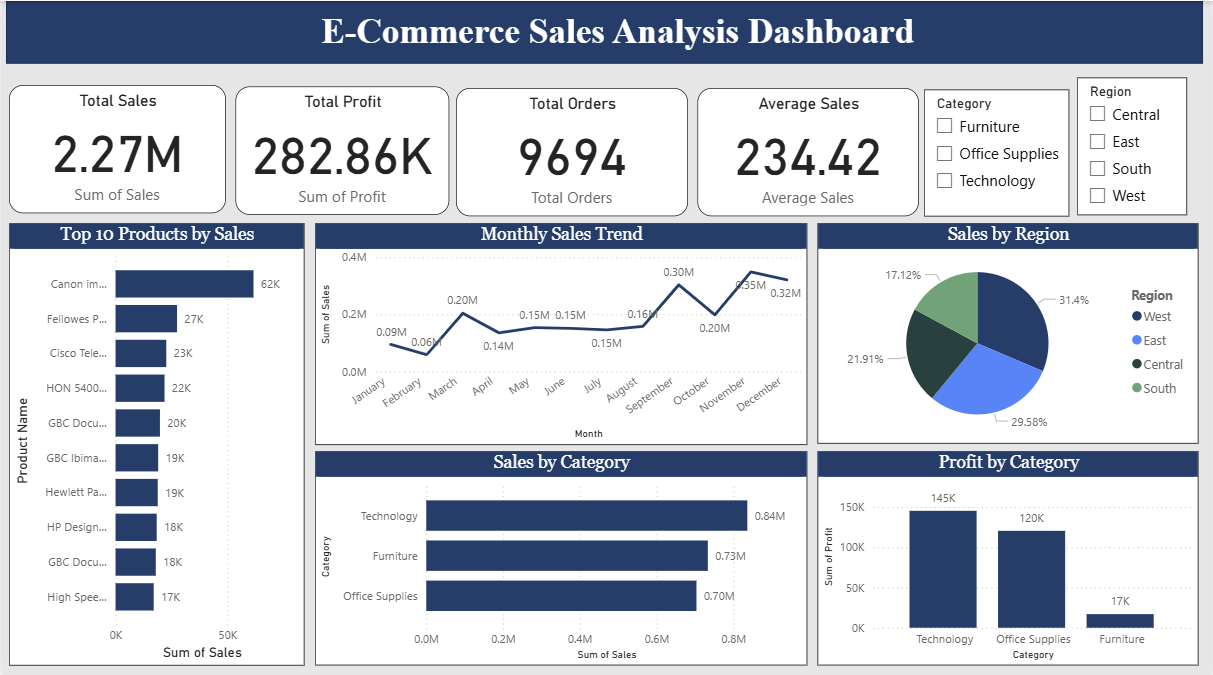

Layout of this report page (visuals, bound fields, positions):
{"tool":"powerbi","page":{"name":"Page 1","canvas":[1280,720],"ordinal":0},"visuals":[{"type":"card","title":"Total Sales","fields":{"Values":["Sum(ecommerce_sales superstore.Sales)"]},"box":[6.5,89.1,229.9,136],"z":0},{"type":"card","title":"Total Profit","fields":{"Values":["Sum(ecommerce_sales superstore.Profit)"]},"box":[246.1,90.7,226.7,136],"z":1000},{"type":"card","title":"Total Orders","fields":{"Values":["ecommerce_sales superstore.Total Orders"]},"box":[480.9,92.3,246.1,136],"z":2000},{"type":"card","title":"Average Sales","fields":{"Values":["ecommerce_sales superstore.Average Sales"]},"box":[736.7,92.3,234.8,136],"z":3000},{"type":"lineChart","title":"Monthly Sales Trend","fields":{"Y":["Sum(ecommerce_sales superstore.Sales)"],"Category":["ecommerce_sales superstore.Order Date.Variation.Date Hierarchy.Month"]},"box":[330.8,235.4,521.7,235.4],"z":4000},{"type":"pieChart","title":"Sales by Region","fields":{"Category":["ecommerce_sales superstore.Region"],"Y":["Sum(ecommerce_sales superstore.Sales)"]},"box":[863.7,235.4,404,233.8],"z":5000},{"type":"clusteredBarChart","title":"Sales by Category","fields":{"Category":["ecommerce_sales superstore.Category"],"Y":["Sum(ecommerce_sales superstore.Sales)"]},"box":[330.8,477.2,521.7,227.5],"z":6000},{"type":"clusteredBarChart","title":"Top 10 Products by Sales","fields":{"Category":["ecommerce_sales superstore.Product Name"],"Y":["Sum(ecommerce_sales superstore.Sales)"]},"box":[6.4,235.4,313.4,469.2],"z":7000},{"type":"clusteredColumnChart","title":"Profit by Category","fields":{"Category":["ecommerce_sales superstore.Category"],"Y":["Sum(ecommerce_sales superstore.Profit)"]},"box":[863.7,477.2,404,227.5],"z":8000},{"type":"slicer","title":"Filter by Region","fields":{"Values":["ecommerce_sales superstore.Region"]},"box":[1138.3,81,116.6,145.7],"z":9000},{"type":"slicer","title":"Filter by Category","fields":{"Values":["ecommerce_sales superstore.Category"]},"box":[976.4,93.9,153.8,134.4],"z":10000},{"type":"shape","box":[3.2,0,1269.5,66.4],"z":11000},{"type":"textbox","box":[331.9,4.9,663.9,56.7],"z":12000}]}

Visuals, with their boxes in screenshot pixels (x1, y1, x2, y2), scaled from the page's 1280x720 canvas onto the 1213x675 screenshot:
"Total Sales" card: bbox=(6, 84, 224, 211)
"Total Profit" card: bbox=(233, 85, 448, 213)
"Total Orders" card: bbox=(456, 87, 689, 214)
"Average Sales" card: bbox=(698, 87, 921, 214)
"Monthly Sales Trend" lineChart: bbox=(313, 221, 808, 441)
"Sales by Region" pieChart: bbox=(818, 221, 1201, 440)
"Sales by Category" clusteredBarChart: bbox=(313, 447, 808, 661)
"Top 10 Products by Sales" clusteredBarChart: bbox=(6, 221, 303, 661)
"Profit by Category" clusteredColumnChart: bbox=(818, 447, 1201, 661)
"Filter by Region" slicer: bbox=(1079, 76, 1189, 213)
"Filter by Category" slicer: bbox=(925, 88, 1071, 214)
shape: bbox=(3, 0, 1206, 62)
textbox: bbox=(315, 5, 944, 58)
